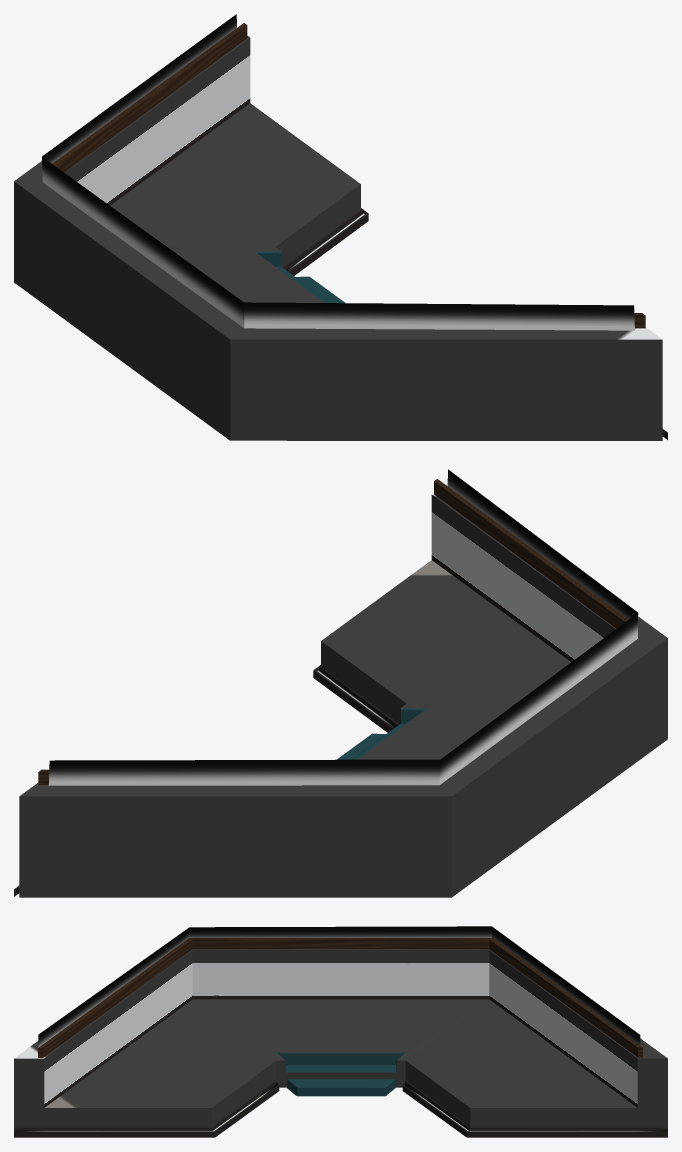
The model's file is RoomPlatform01.fbx.
3 views of the same model, one above another, from view 1: azimuth 30°, elevation 25°; view 2: azimuth 150°, elevation 25°; view 3: azimuth 270°, elevation 25° (orthographic). The views are drawn at different scales.
Parts seen in each view (by area): view 1: RoomPlatform01; view 2: RoomPlatform01; view 3: RoomPlatform01.
Boxes of the visible parts, box(x1,y1,x2,y2) form: RoomPlatform01: box(14, 14, 667, 440); RoomPlatform01: box(14, 469, 667, 897); RoomPlatform01: box(14, 926, 667, 1137).
Bounding box in the file's own units: 42.27 × 15.74 × 96.05.
